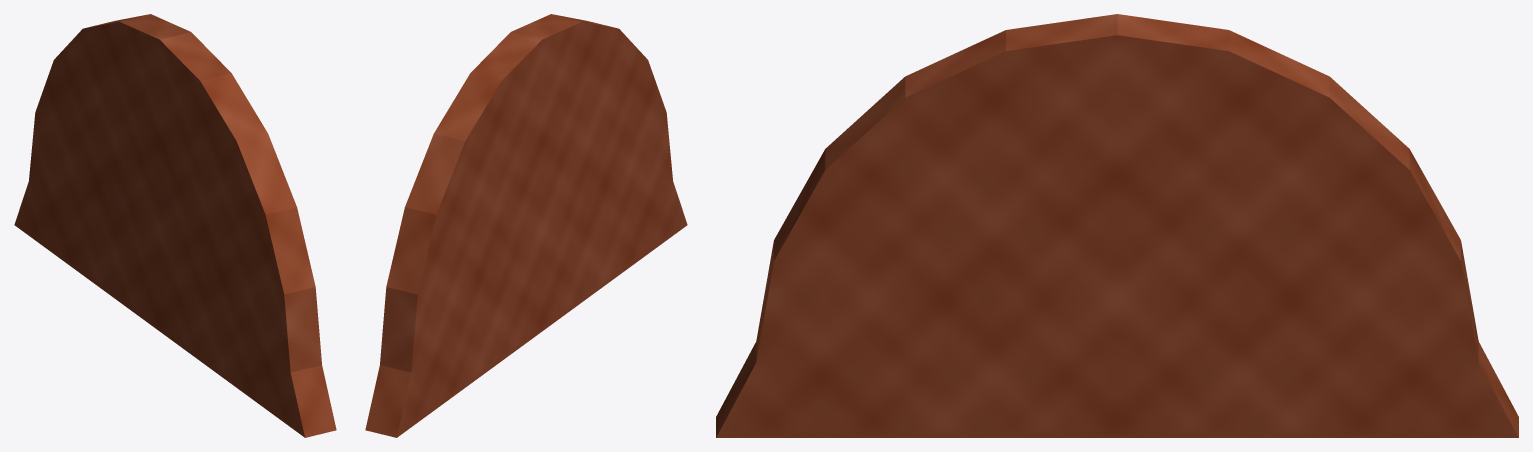
Rendered from MRP_Ridge_EndCap.fbx.
The picture shows the model from 3 angles, left to right: view 1: azimuth 30°, elevation 25°; view 2: azimuth 150°, elevation 25°; view 3: azimuth 270°, elevation 25°; orthographic projection. The views are drawn at different scales.
Visible parts, largest first — view 1: Body; view 2: Body; view 3: Body.
Boxes of the visible parts, <box> form: Body: <box>14,14,336,437</box>; Body: <box>365,14,687,437</box>; Body: <box>716,14,1518,437</box>.
Size of the model in its own units: 0.025 by 0.2215 by 0.4.
